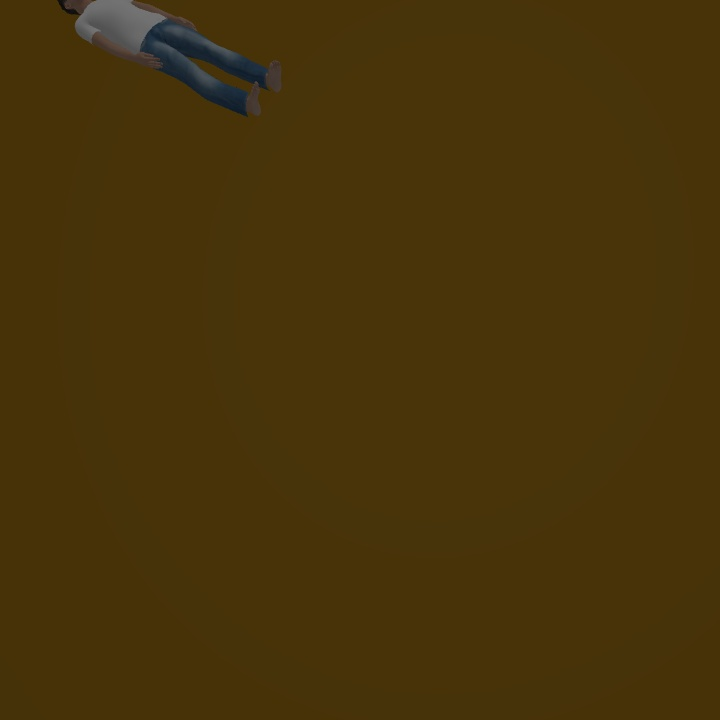victim: (64, 1, 283, 115)
